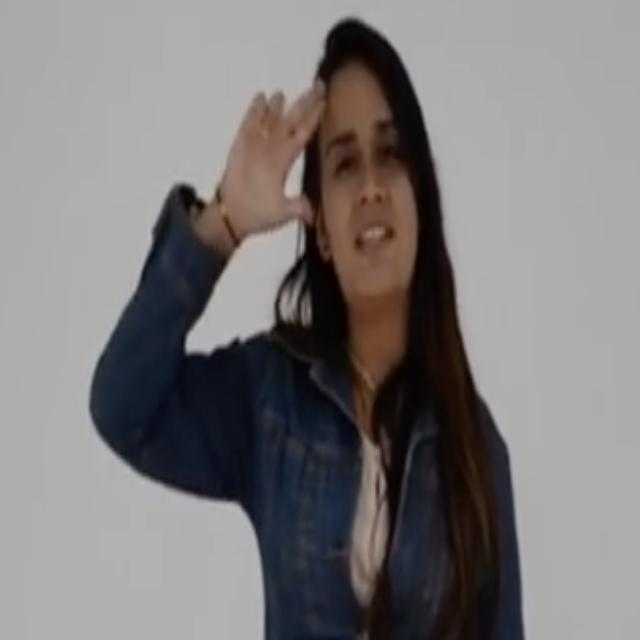hola: (218, 62, 327, 261)
